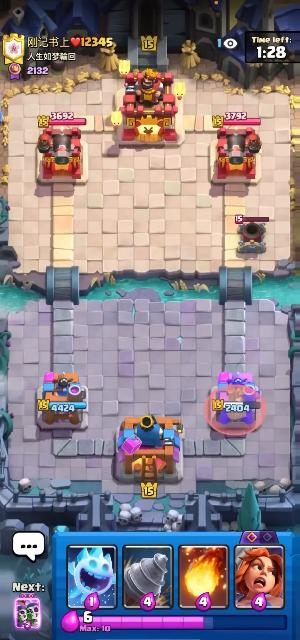enemy_building: (237, 222, 266, 253)
